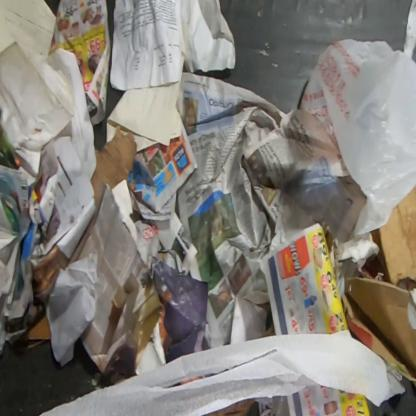cardboard: (340, 274, 416, 388), (377, 184, 416, 286), (90, 126, 137, 210), (27, 314, 52, 340)
soft_plastic: (298, 37, 415, 238)
